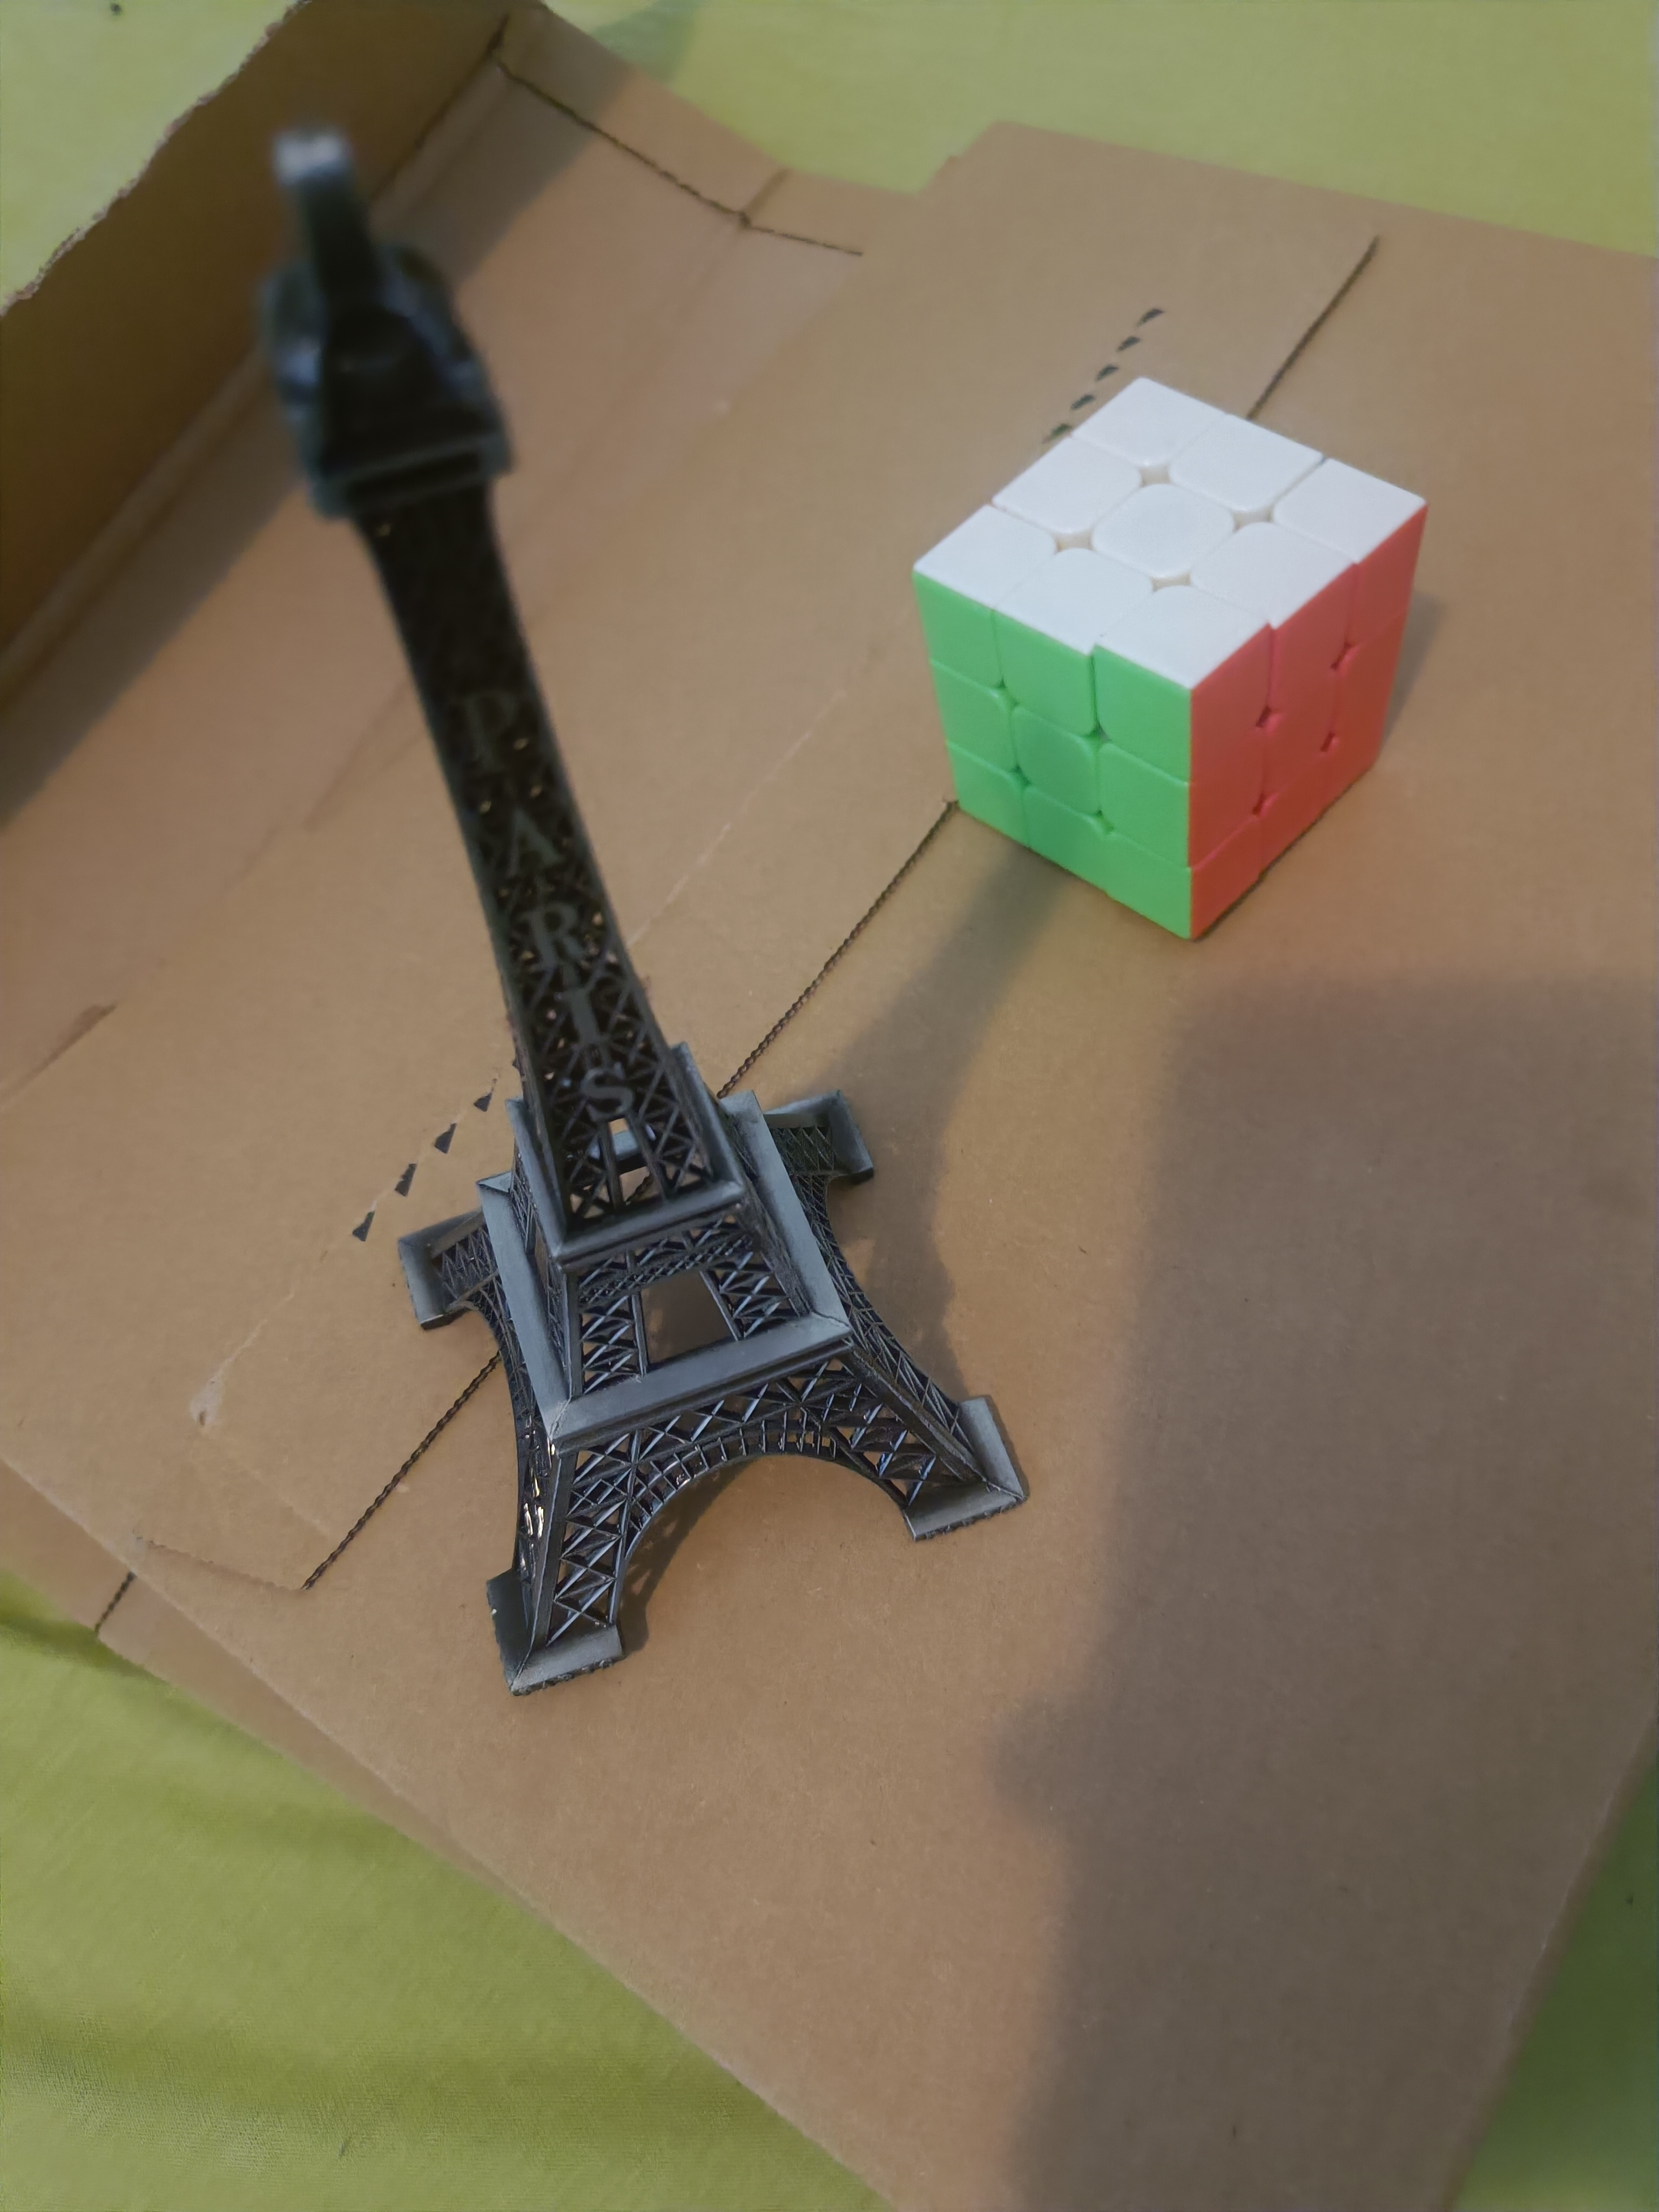Eiffel Tower: (234, 105, 1035, 1702)
Rubiks Cube: (901, 343, 1436, 958)
